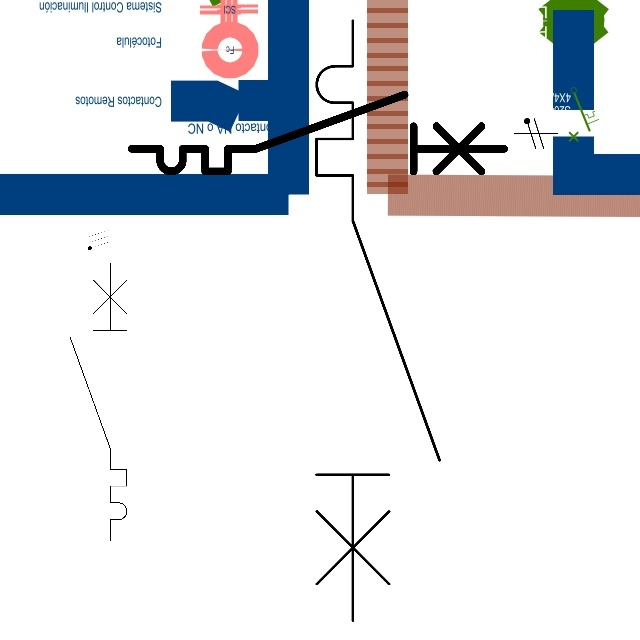interruptor_termomagnetico: (301, 5, 455, 635), (122, 85, 513, 181), (63, 256, 134, 548)
